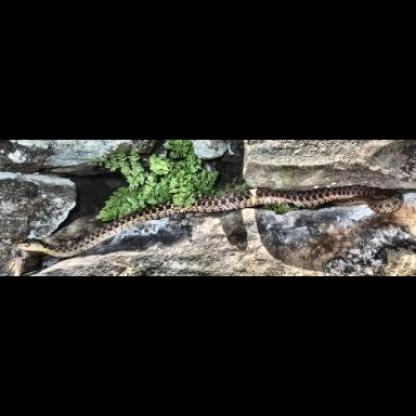Snake: (8, 192, 218, 259)
